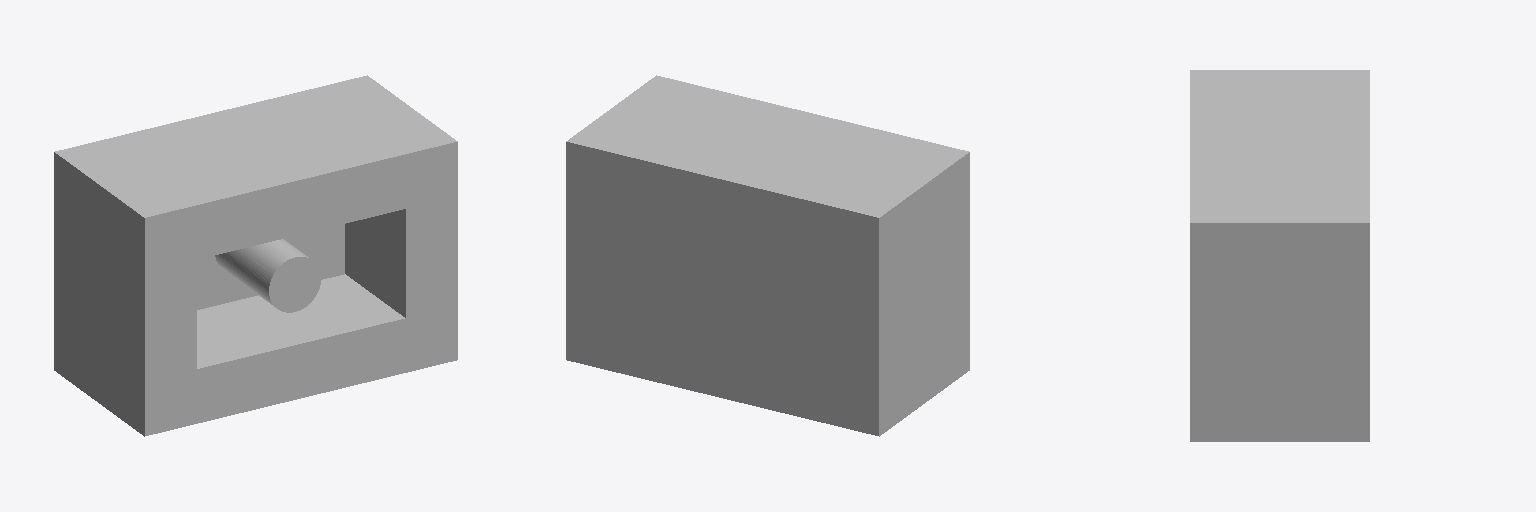
Rendered from tank13.obj.
3 views of the same model, side by side, from view 1: azimuth 30°, elevation 25°; view 2: azimuth 150°, elevation 25°; view 3: azimuth 270°, elevation 25° (orthographic).
Bounding box in the file's own units: 3 × 2 × 1.5.